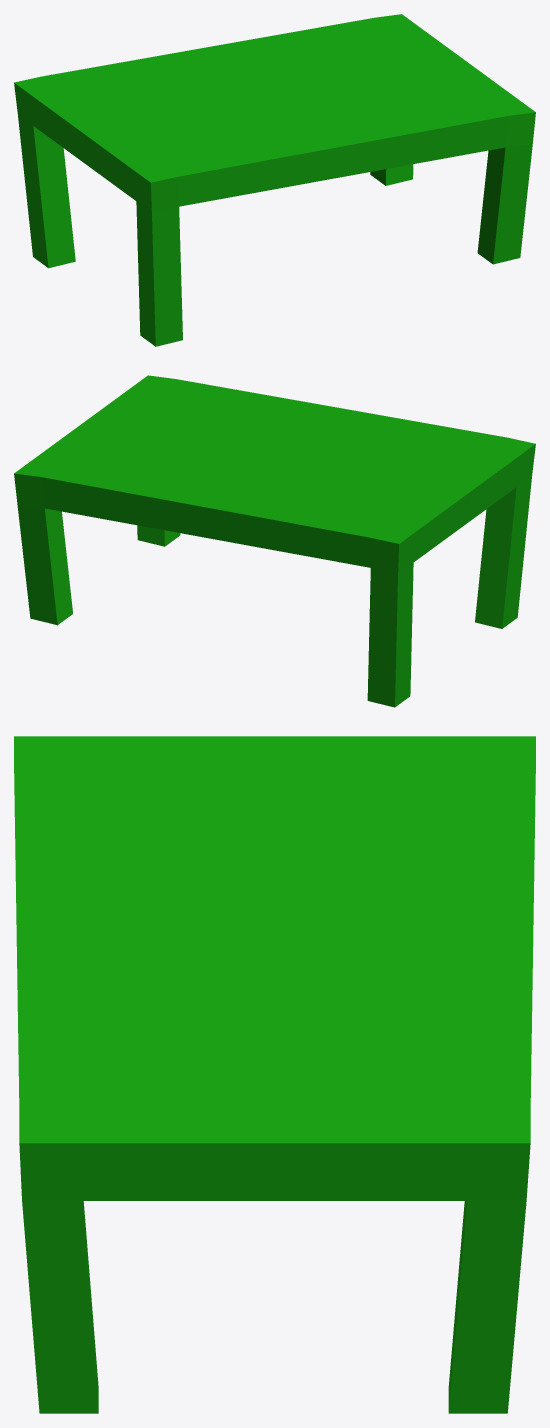
Rendered from Small_table_2.fbx.
3 views of the same model, one above another, from view 1: azimuth 30°, elevation 25°; view 2: azimuth 150°, elevation 25°; view 3: azimuth 270°, elevation 25° (orthographic). The views are drawn at different scales.
Visible parts, largest first — view 1: Small_table_1; view 2: Small_table_1; view 3: Small_table_1.
Boxes of the visible parts, <box> form: Small_table_1: <box>14,14,535,346</box>; Small_table_1: <box>14,375,535,707</box>; Small_table_1: <box>14,736,535,1413</box>.
Size of the model in its own units: 102 by 43.4 by 62.68.
